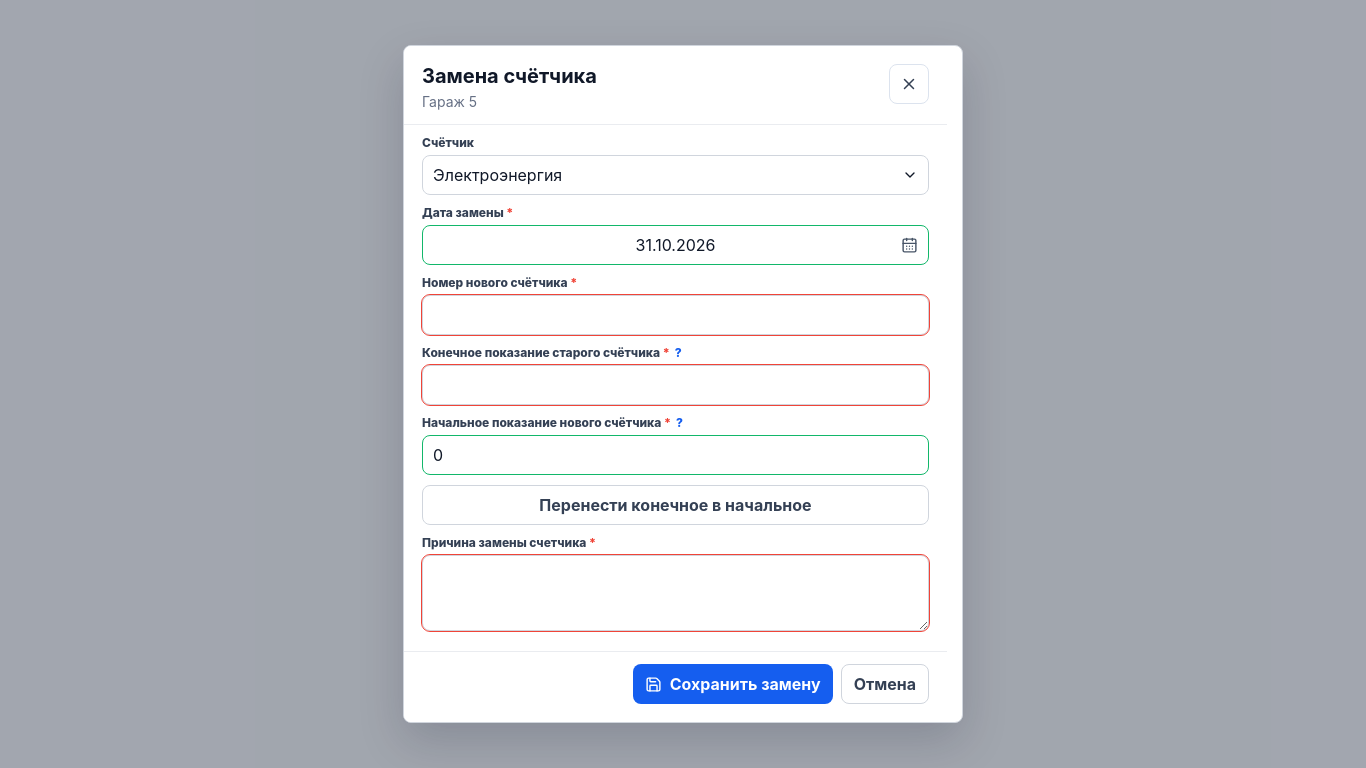
Test: uses the active device history when the month has no reading yet
Expected: the button "Сохранить замену" is enabled, [633, 664, 833, 704]
Type "130" into the field named "Конечное показание старого счетчика" at [676, 385], box [422, 365, 929, 405]
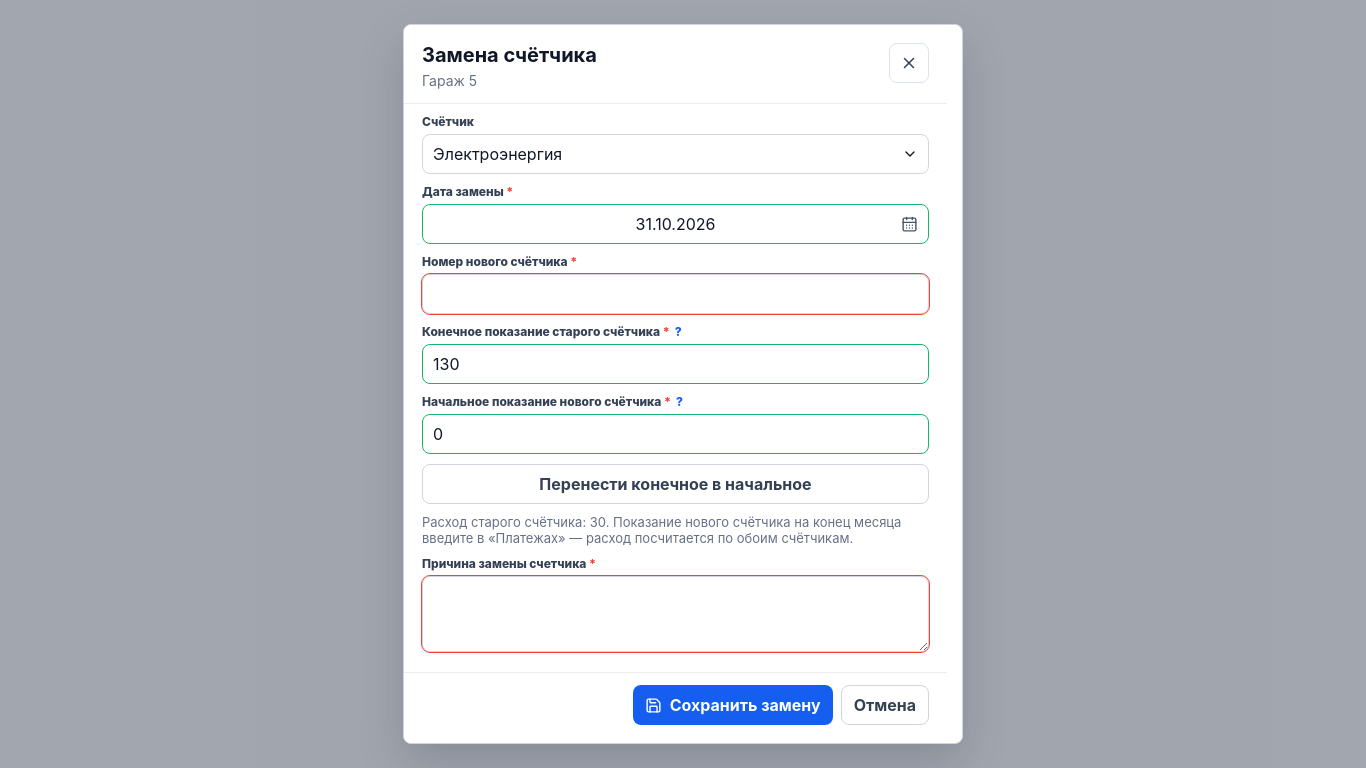
Result: the text "Расход старого счётчика: 30. Показание нового счётчика на конец месяца введите в «Платежах»" is shown at [422, 514, 901, 546]
